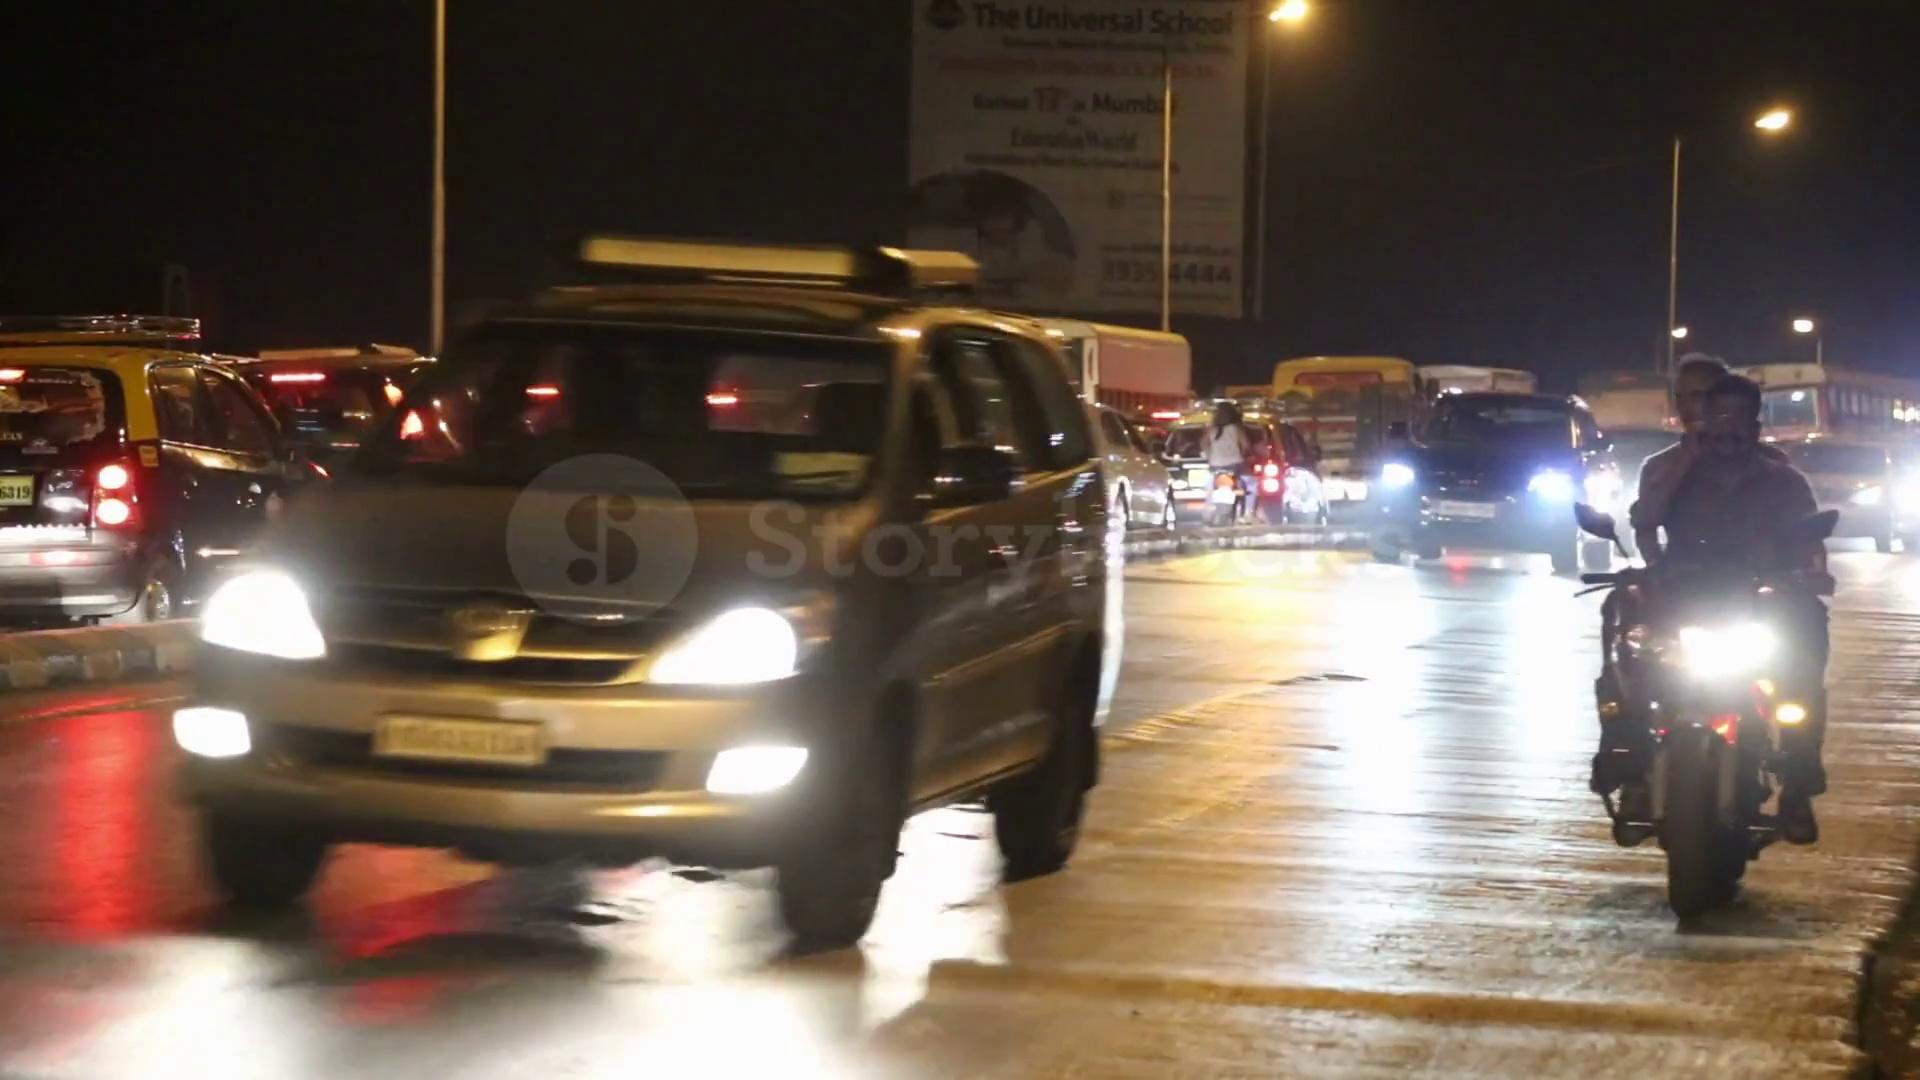rider: (1616, 369, 1834, 845)
without_helmate: (1687, 379, 1767, 463)
